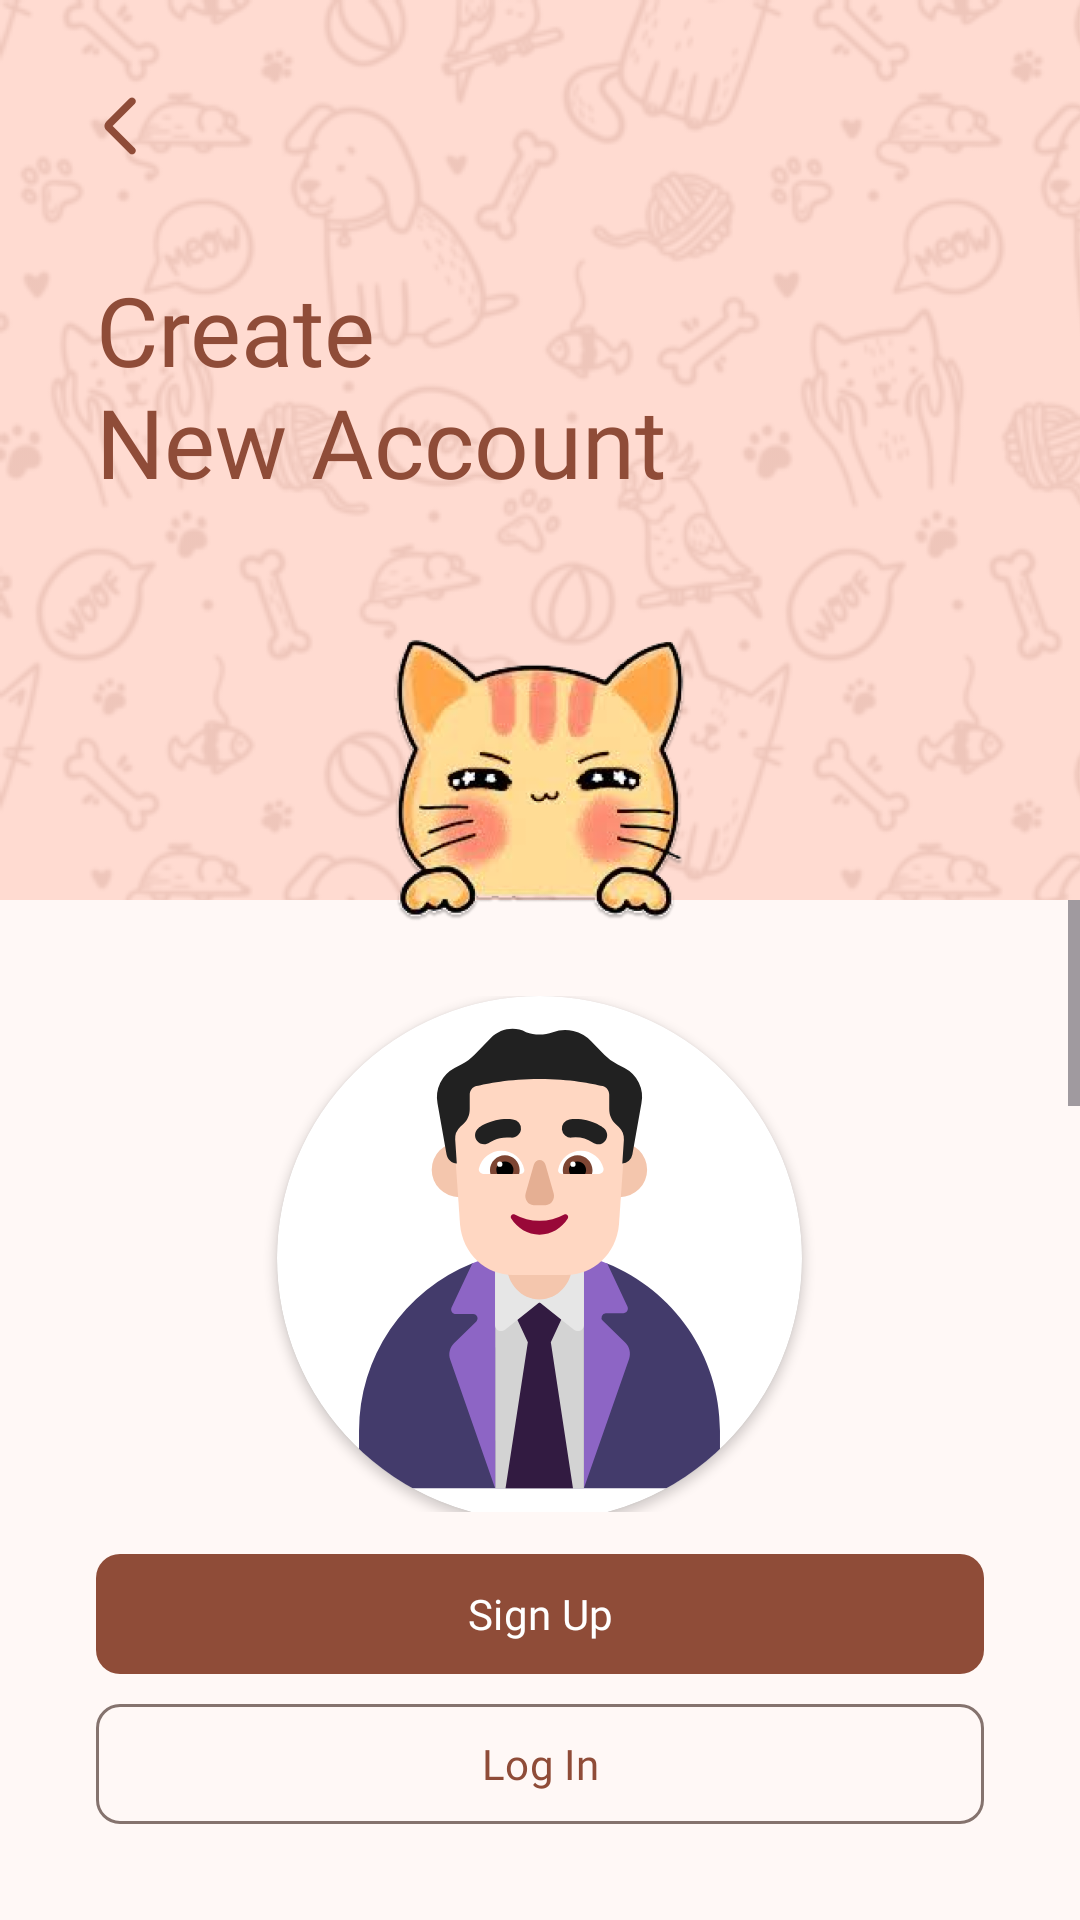

Locate icon controls on the screen. Image size 1080px x 1920px, boxes as (x1, y1, x2, y2).
back: (104, 97, 136, 155)
